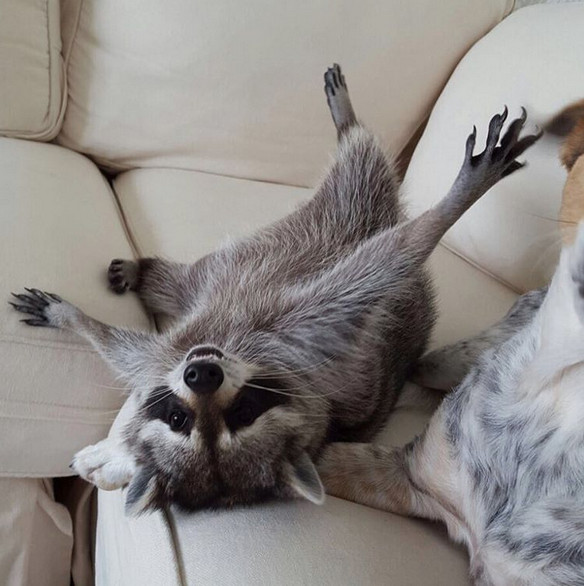raccoon: (1, 58, 546, 520)
